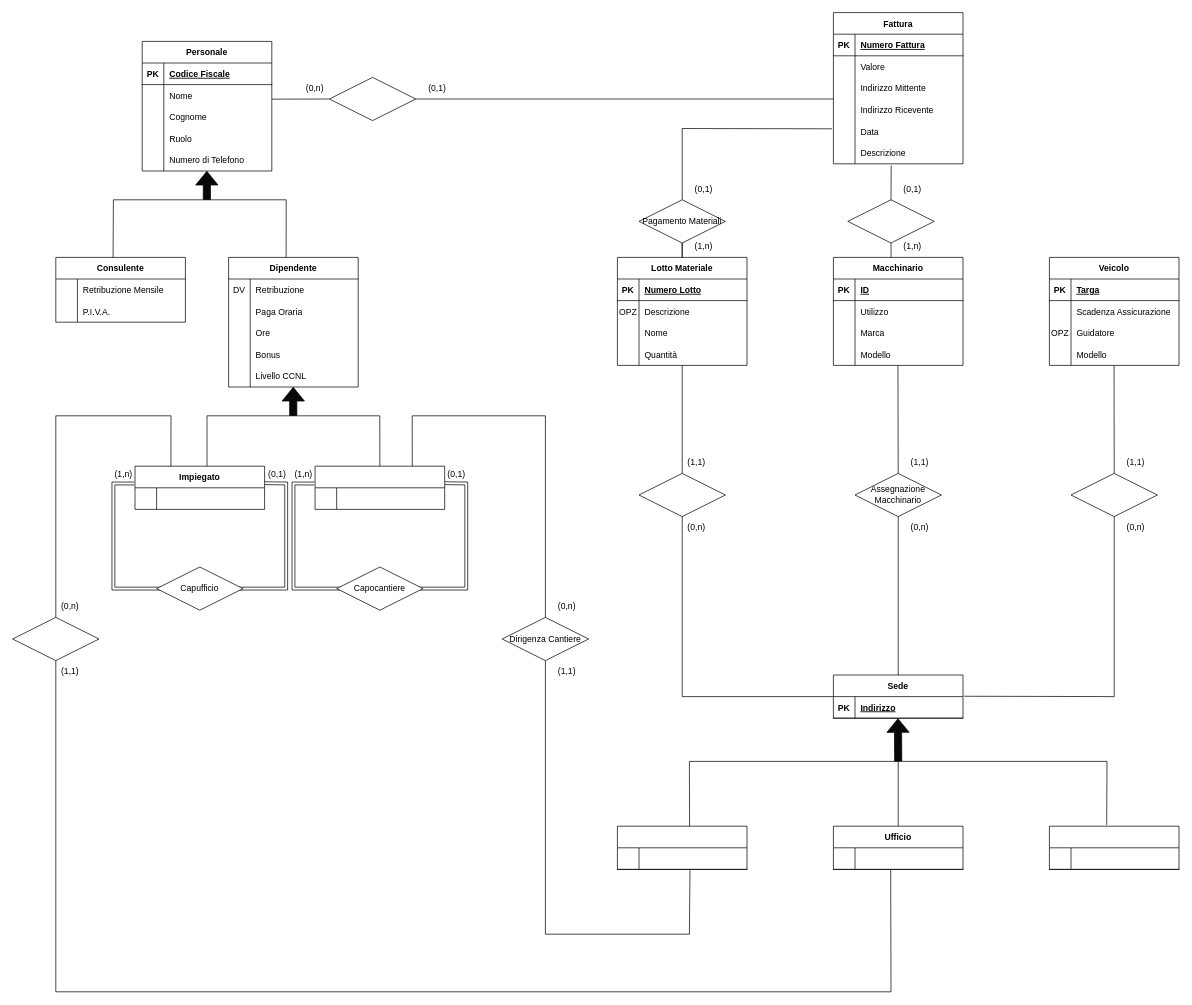
This 1192x1005 diagram has some shape labels left out. Here are the shapes that lost their labels. From the top down, the centre of each, then its label:
(372,99): Paga
(890,221): Pagamento Macchinari
(379,487): Lavoratore
(681,495): Assegnazione Materiali
(1113,495): Assegnazione Veicolo
(55,639): DirIgenza Ufficio
(682,847): Cantiere
(1114,847): Magazzino
